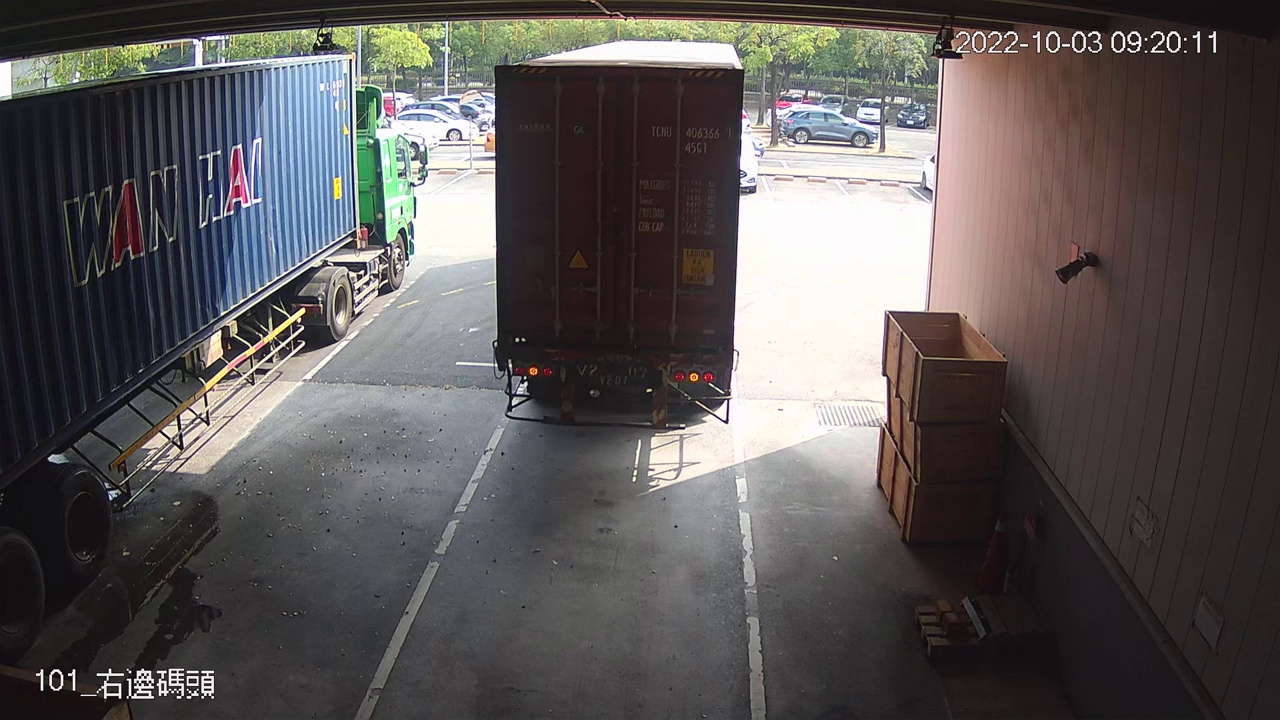container: (647, 119, 736, 156)
